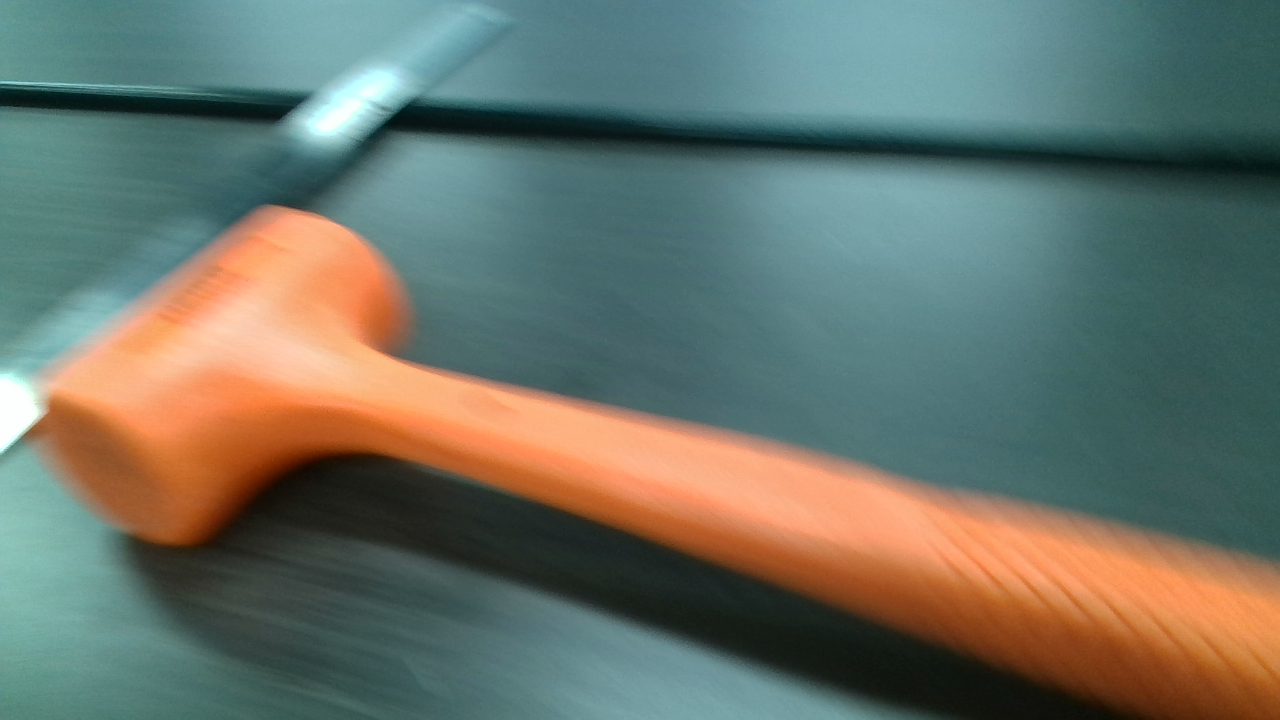Orange Hammer: (38, 204, 1280, 720)
